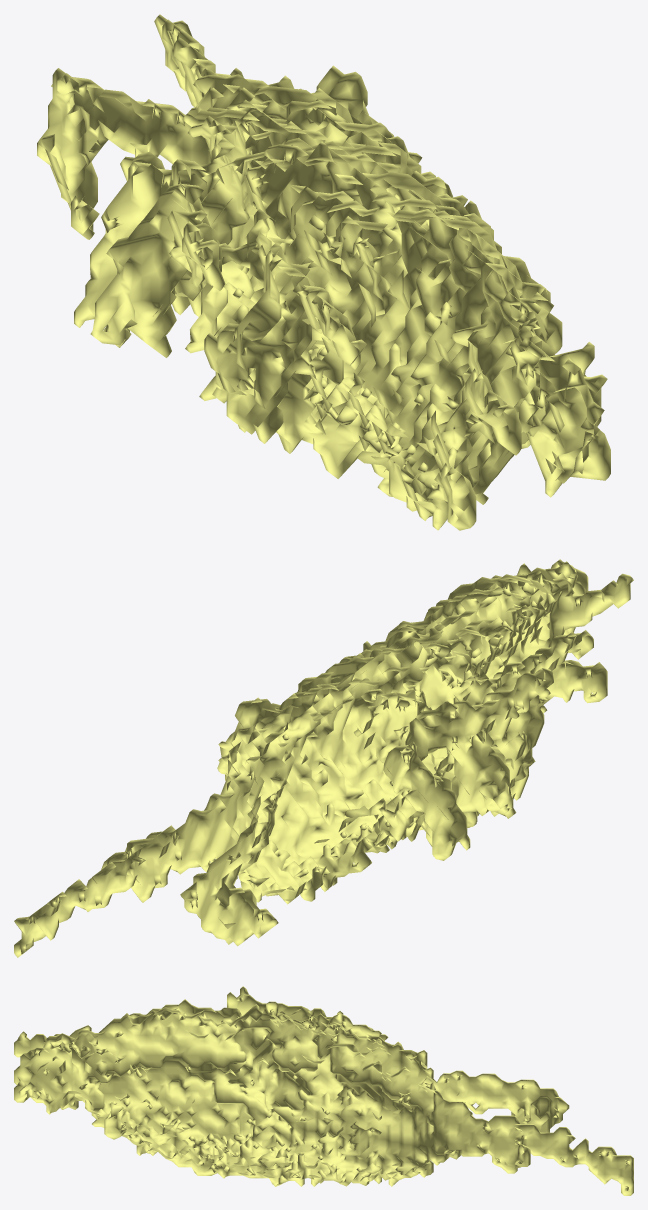
Rendered from osteocyte_122.glb.
3 views of the same model, one above another, from view 1: azimuth 30°, elevation 25°; view 2: azimuth 150°, elevation 25°; view 3: azimuth 270°, elevation 25° (orthographic). The views are drawn at different scales.
Visible parts, largest first — view 1: osteocyte_122; view 2: osteocyte_122; view 3: osteocyte_122.
Part boxes in pixels (<box>): osteocyte_122: <box>37,14,610,530</box>; osteocyte_122: <box>14,559,633,957</box>; osteocyte_122: <box>14,986,633,1195</box>.
Bounding box in the file's own units: 17.81 × 13.48 × 46.22.
